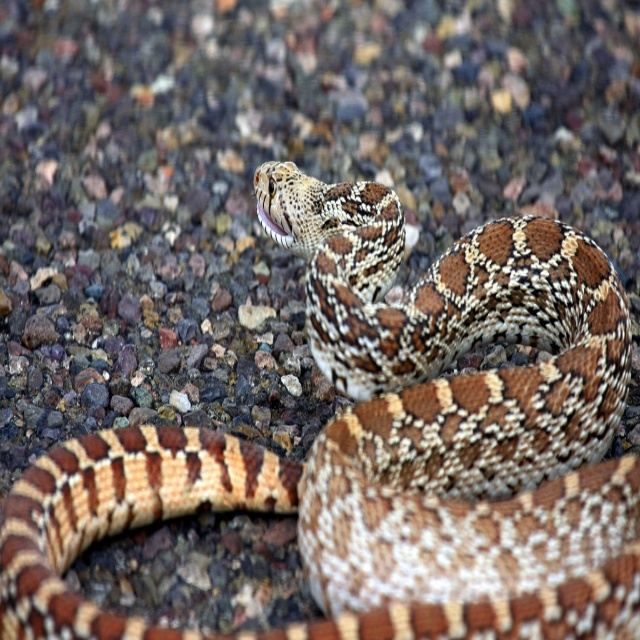Snake: (0, 161, 640, 640)
